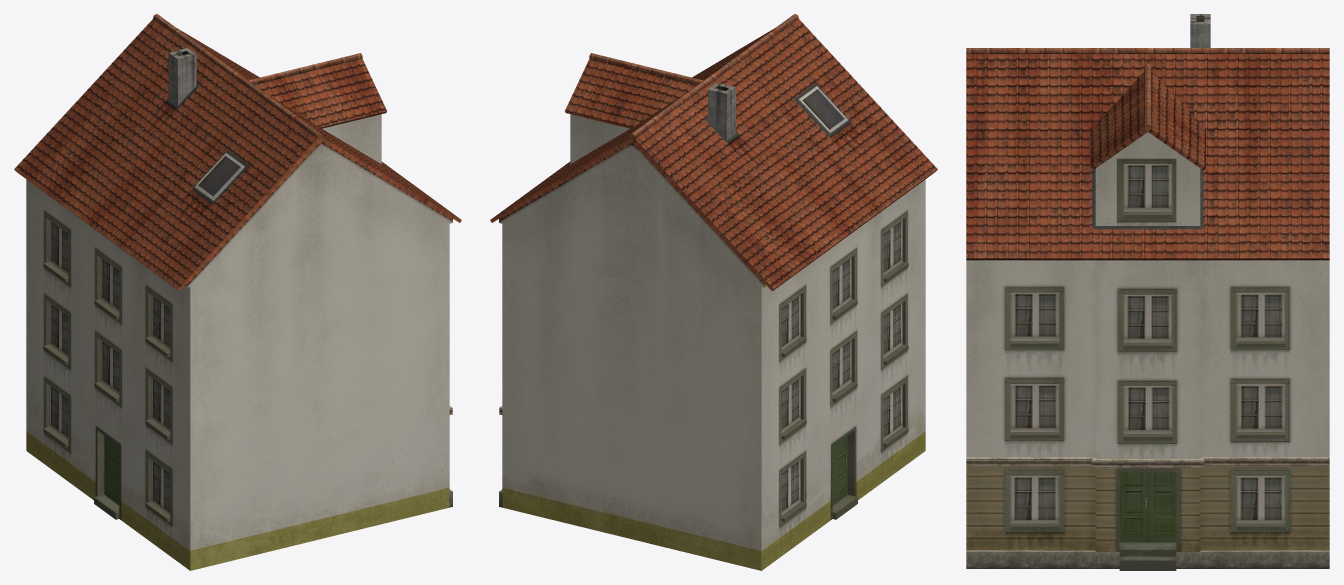
3 views of the same model, side by side, from view 1: azimuth 30°, elevation 25°; view 2: azimuth 150°, elevation 25°; view 3: azimuth 270°, elevation 25° (orthographic). The views are drawn at different scales.
Visible parts, largest first — view 1: RigModels_ApartmentHouse; view 2: RigModels_ApartmentHouse; view 3: RigModels_ApartmentHouse.
Boxes of the visible parts, x1=… form: RigModels_ApartmentHouse: x1=14, y1=14, x2=461, y2=570; RigModels_ApartmentHouse: x1=490, y1=14, x2=937, y2=570; RigModels_ApartmentHouse: x1=966, y1=14, x2=1329, y2=570.
Size of the model in its own units: 997 by 997 by 1396.
1 material, 1 textured.
